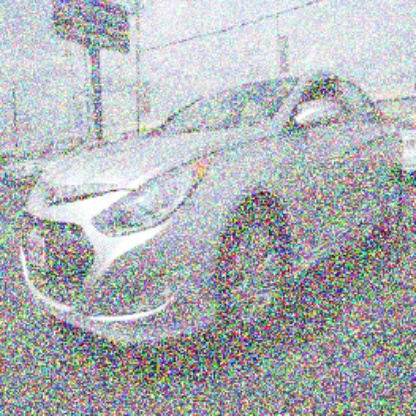Vehicle: (20, 72, 404, 348)
